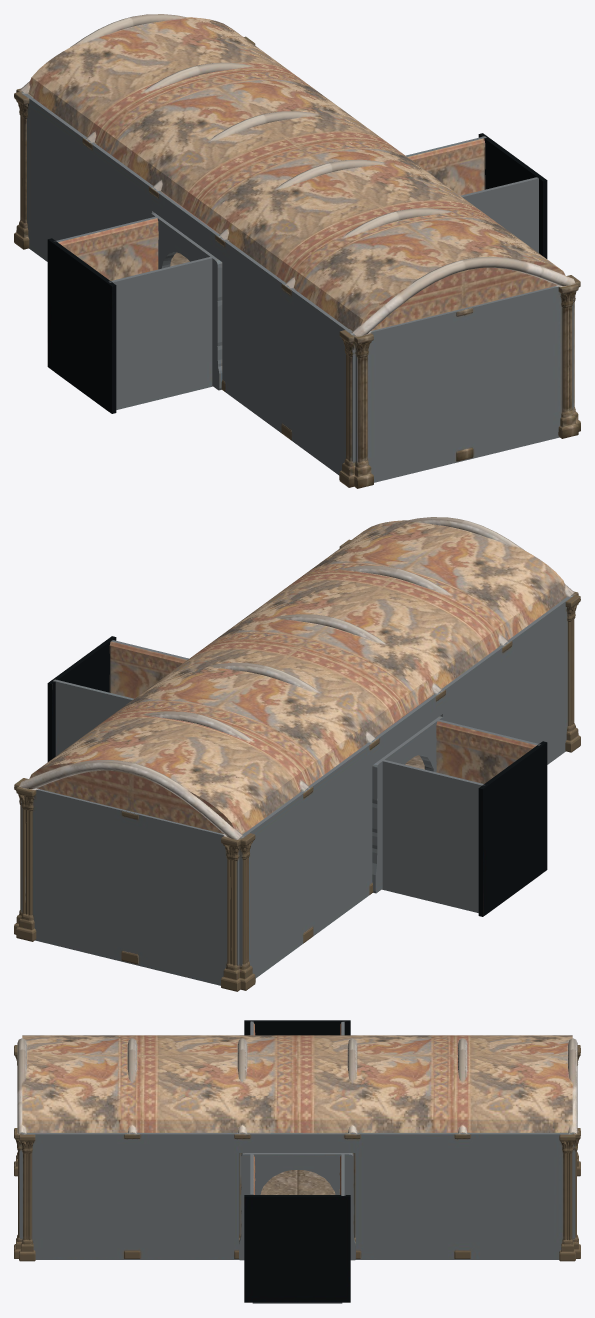
The model's file is room.glb.
The picture shows the model from 3 angles, top to bottom: view 1: azimuth 30°, elevation 25°; view 2: azimuth 150°, elevation 25°; view 3: azimuth 270°, elevation 25°; orthographic projection. The views are drawn at different scales.
Parts seen in each view (by area): view 1: FRESCO-ROOM; view 2: FRESCO-ROOM; view 3: FRESCO-ROOM.
Boxes of the visible parts, box(x1,y1,x2,y2) form: FRESCO-ROOM: box(14, 14, 580, 488); FRESCO-ROOM: box(14, 517, 580, 991); FRESCO-ROOM: box(14, 1020, 580, 1303).
Size of the model in its own units: 12.12 by 5.35 by 16.48.
1 material, 1 textured.
